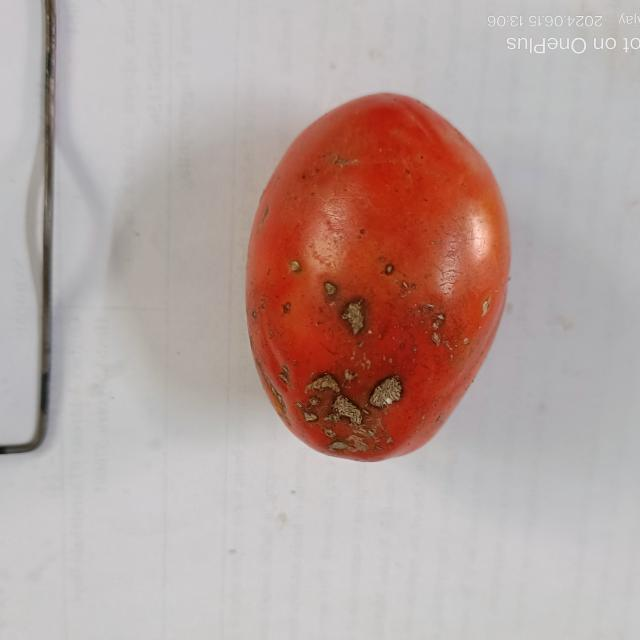Bacterial_Spot: (284, 258, 442, 458)
